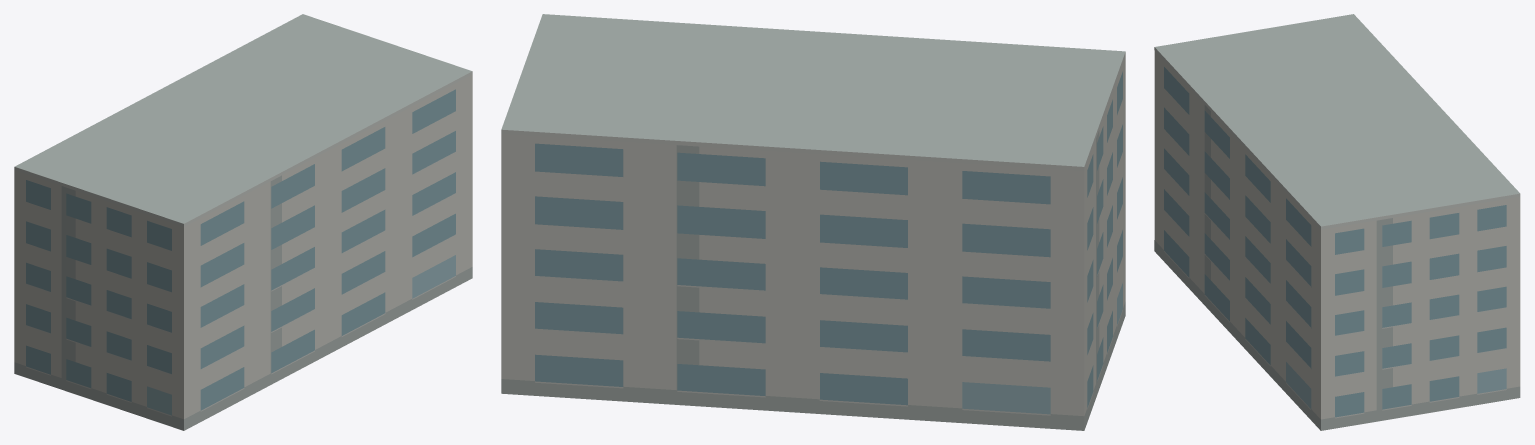
Rendered from residential-cb4161fa-949e-4e42-9c18-a43cd6474fbc.glb.
3 views of the same model, side by side, from view 1: azimuth 30°, elevation 25°; view 2: azimuth 150°, elevation 25°; view 3: azimuth 270°, elevation 25° (orthographic). The views are drawn at different scales.
Parts seen in each view (by area): view 1: residential-cb4161fa-949e-4e42-9c18-a43cd6474fbc.tmp; view 2: residential-cb4161fa-949e-4e42-9c18-a43cd6474fbc.tmp; view 3: residential-cb4161fa-949e-4e42-9c18-a43cd6474fbc.tmp.
Part boxes in pixels (x1,y1,x2,y2): residential-cb4161fa-949e-4e42-9c18-a43cd6474fbc.tmp: [14, 14, 472, 430]; residential-cb4161fa-949e-4e42-9c18-a43cd6474fbc.tmp: [501, 14, 1125, 430]; residential-cb4161fa-949e-4e42-9c18-a43cd6474fbc.tmp: [1154, 14, 1520, 430].
Bounding box in the file's own units: 34.04 × 15.25 × 24.76.
